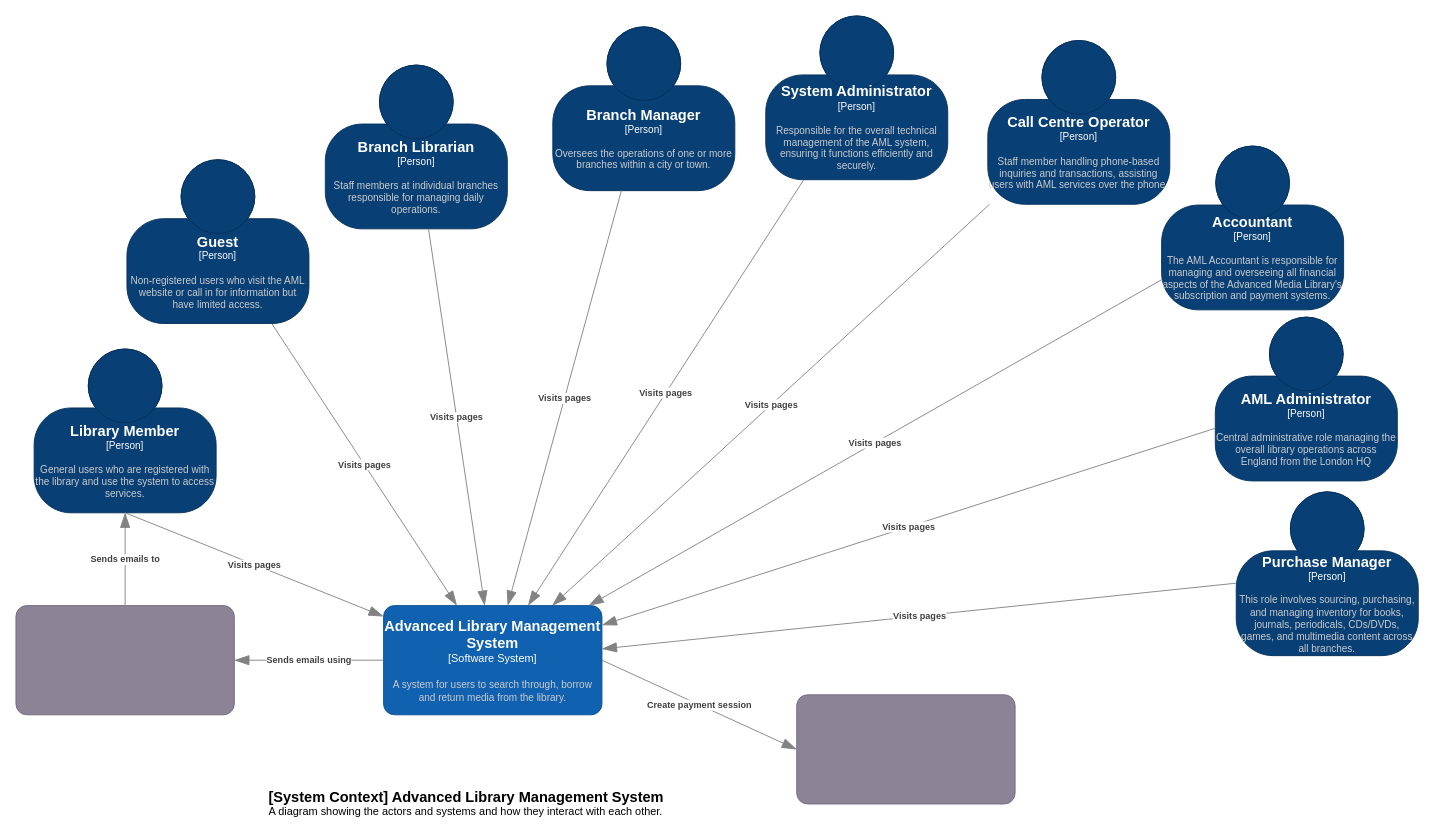
The diagram is 1434 pixels wide and 835 high, and some of its shapes have lost their labels. The shapes that lost their labels are listed below. From the top down, each one's centre as x and y in pixels, then its label:
At (124,660): "Email System [Software System] The system used for sending emails.".
At (905,749): "Stripe [Software System] Stripe will be out payment handler".
